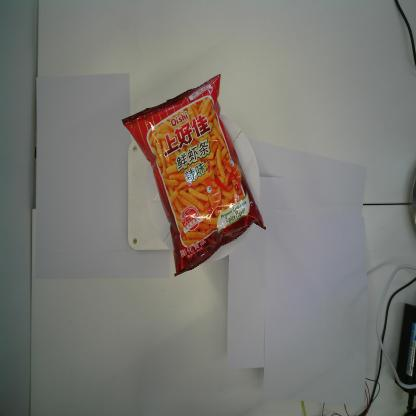Puffed Food: (121, 72, 268, 276)
